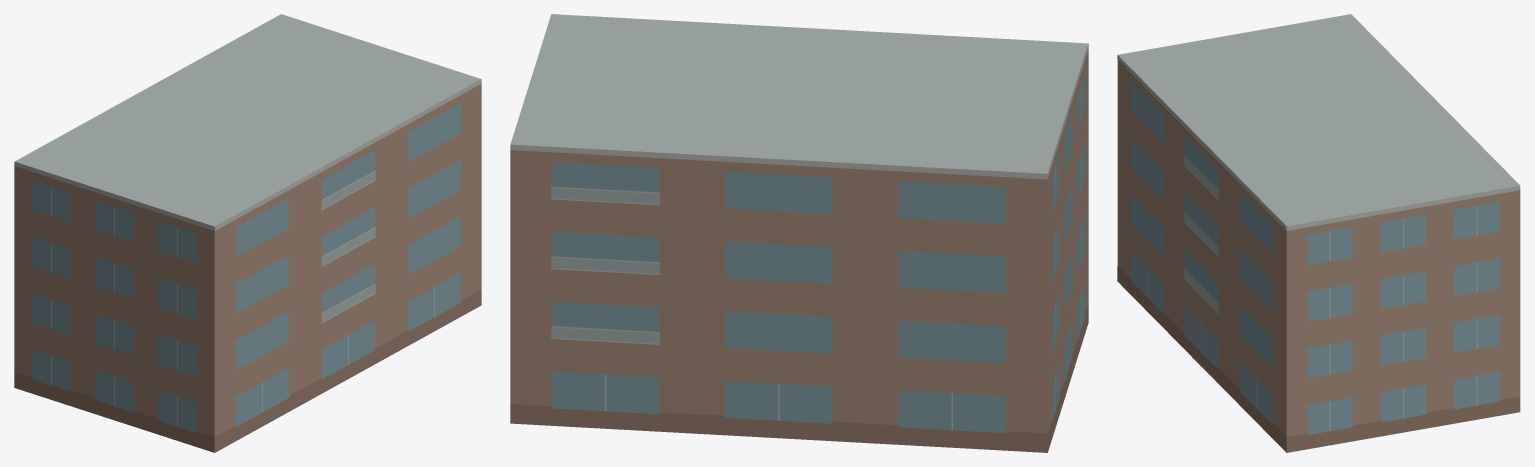
The model's file is survey-upis-32754074.glb.
3 renders of one model, left to right at view 1: azimuth 30°, elevation 25°; view 2: azimuth 150°, elevation 25°; view 3: azimuth 270°, elevation 25°, orthographic. The views are drawn at different scales.
Parts seen in each view (by area): view 1: survey-upis-32754074.tmp; view 2: survey-upis-32754074.tmp; view 3: survey-upis-32754074.tmp.
Part boxes in pixels (x1=…): survey-upis-32754074.tmp: x1=14, y1=14, x2=481, y2=452; survey-upis-32754074.tmp: x1=510, y1=14, x2=1088, y2=452; survey-upis-32754074.tmp: x1=1117, y1=14, x2=1520, y2=452.
Size of the model in its own units: 24.54 by 12.2 by 19.68.
